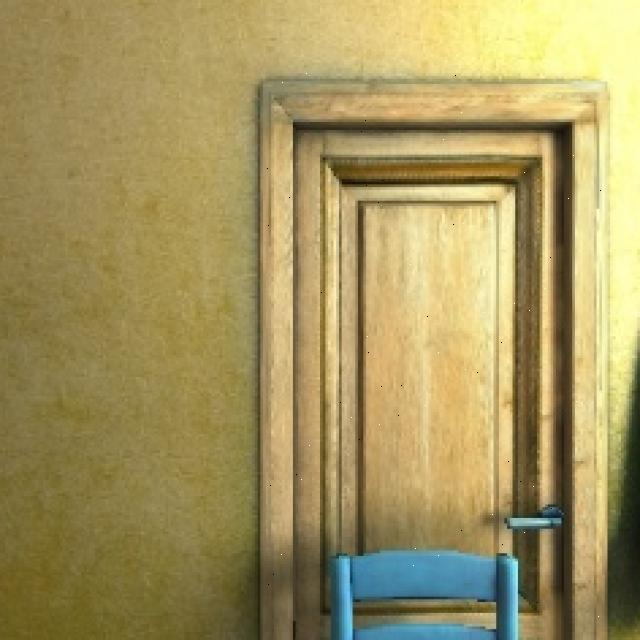door: (263, 70, 604, 640)
